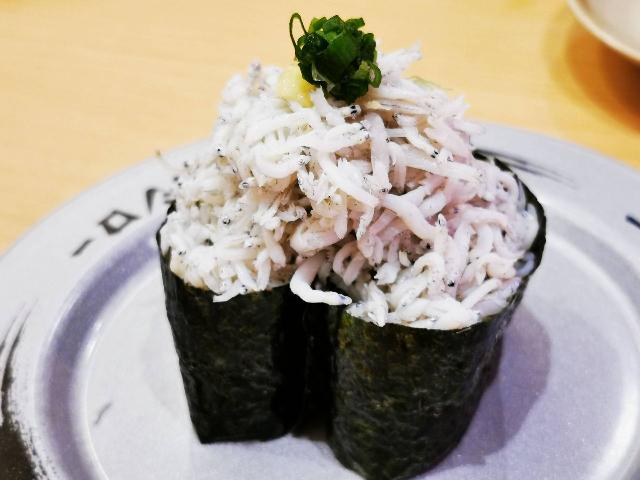janwhite: (0, 162, 141, 480), (543, 124, 640, 480), (134, 447, 392, 480)
